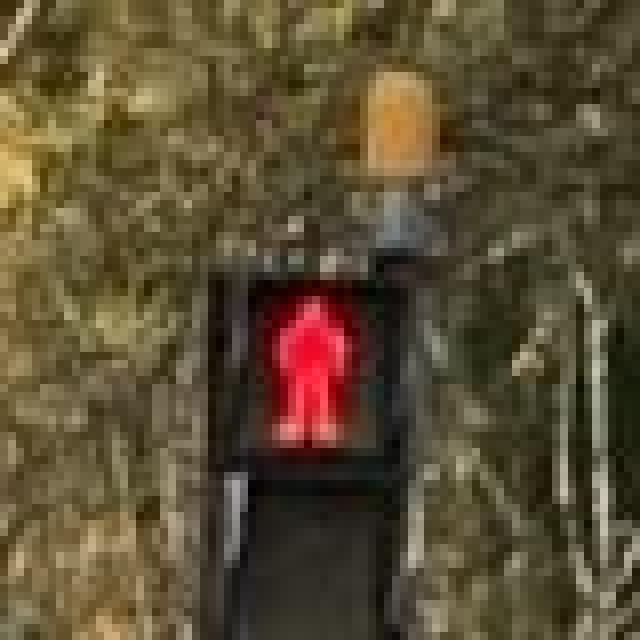redlight: (200, 256, 408, 632)
